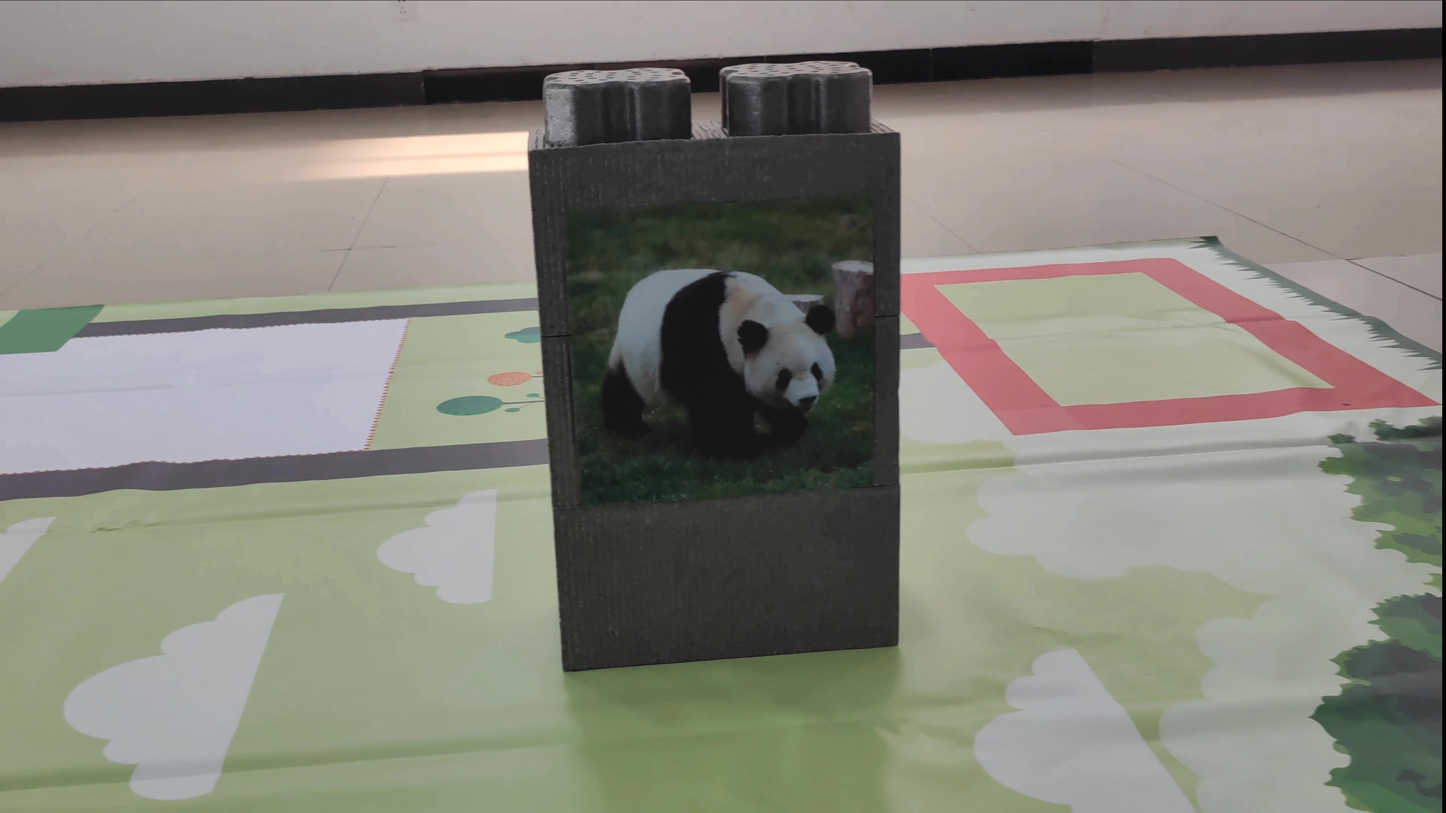panda: (586, 252, 869, 493)
